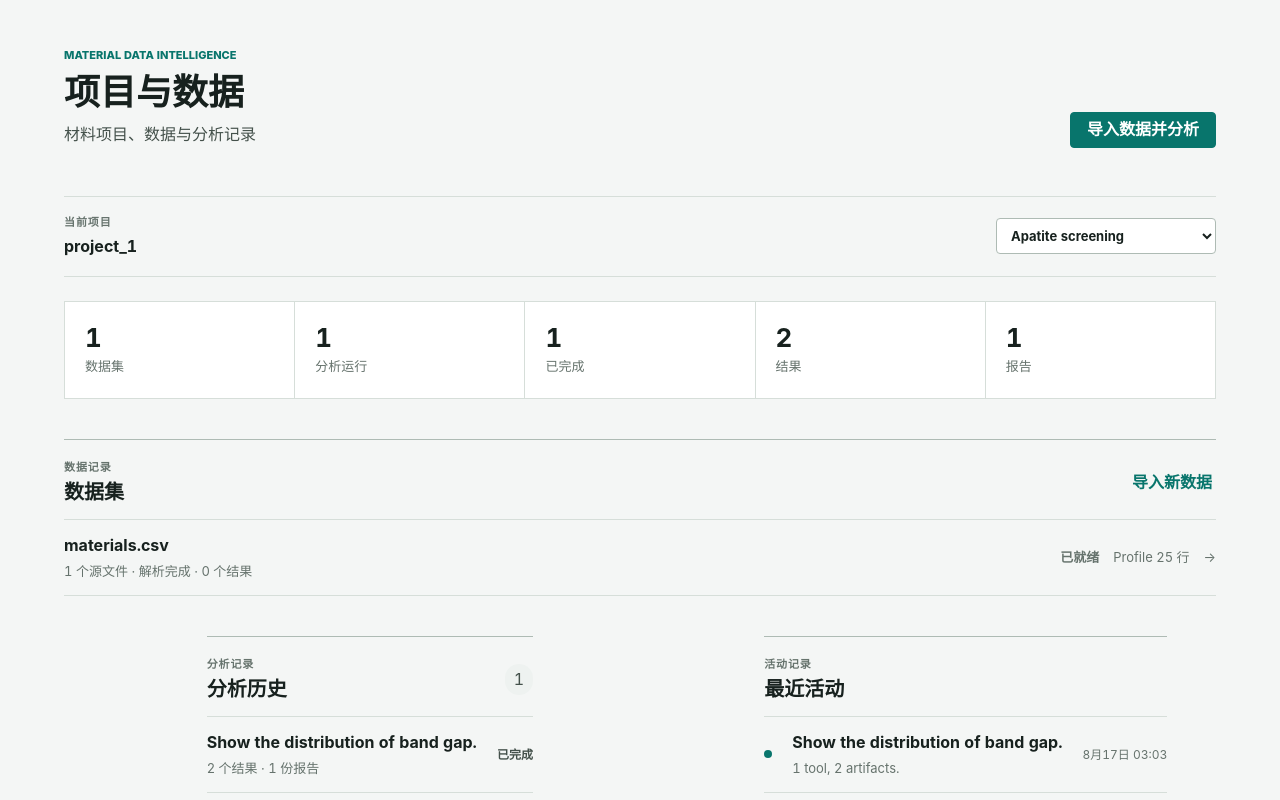
Test: reuses the bounded history cache when navigating back to a recently opened project
This screenshot has width=1280, height=800.
Expected: the text "project_1" is shown, [64, 235, 137, 258]
Select "Silicon validation" in the dropdown at (1106, 236), box [996, 218, 1216, 254]
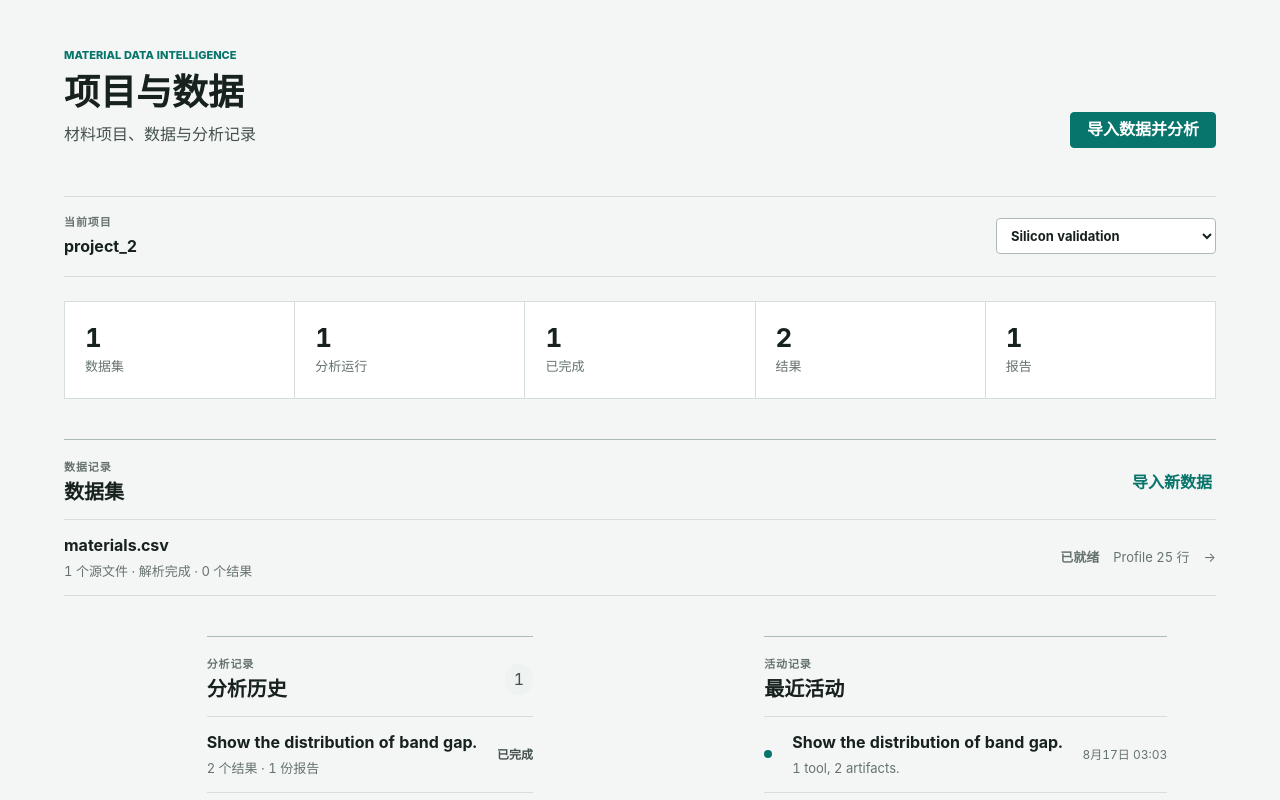
Expected: the text "project_2" is shown, [64, 235, 137, 258]
Select "Apatite screening" in the dropdown at (1106, 236), box [996, 218, 1216, 254]
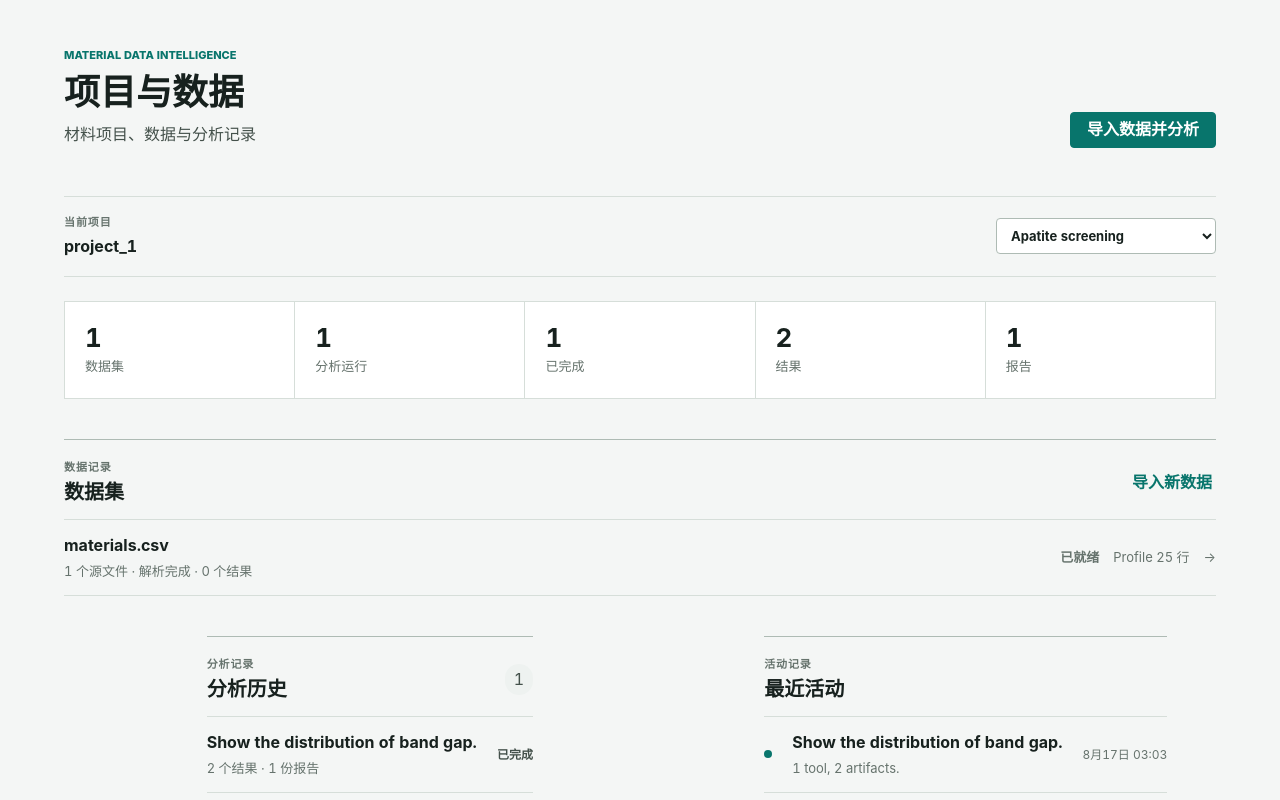
Expected: the text "project_1" is shown, [64, 235, 137, 258]
